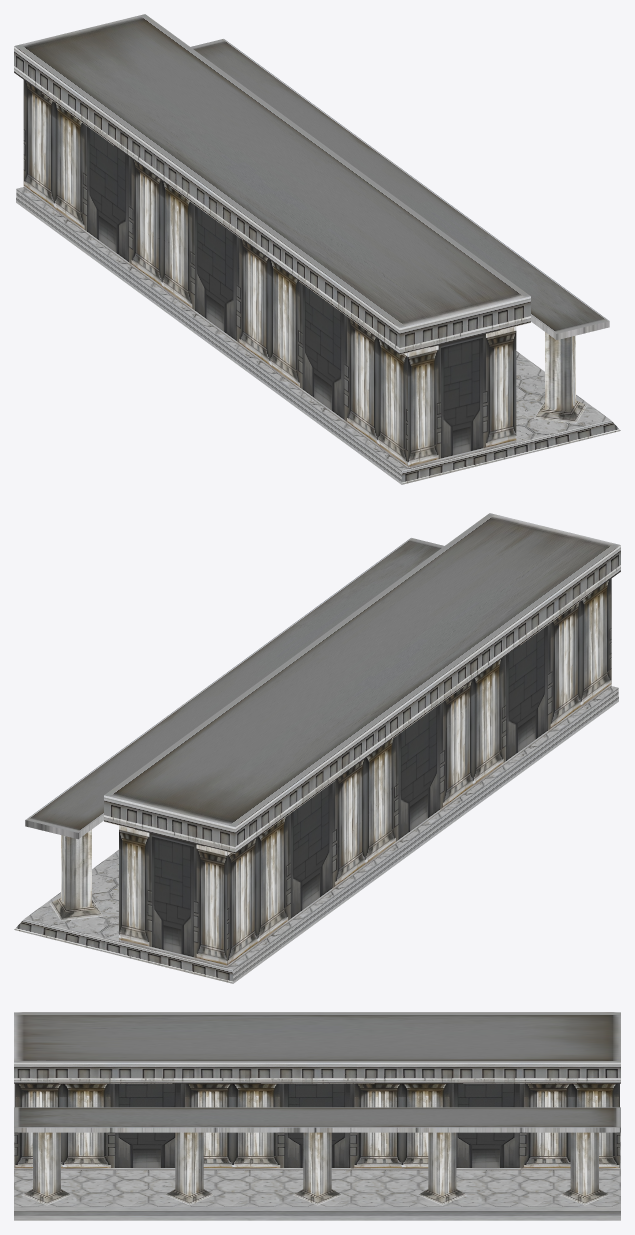
The model's file is s_promenade_hdtex.glb.
3 renders of one model, top to bottom at view 1: azimuth 30°, elevation 25°; view 2: azimuth 150°, elevation 25°; view 3: azimuth 270°, elevation 25°, orthographic. The views are drawn at different scales.
Visible parts, largest first — view 1: S_Prom; view 2: S_Prom; view 3: S_Prom.
Part boxes in pixels (bbox=[...]): S_Prom: bbox=[14, 14, 620, 484]; S_Prom: bbox=[14, 513, 620, 983]; S_Prom: bbox=[14, 1012, 620, 1220].
Size of the model in its own units: 8.47 by 5.74 by 25.55.
Materials: 4 (4 with a texture image).
